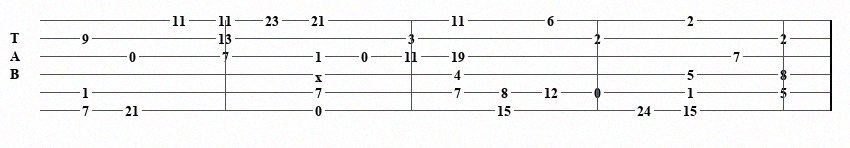0: (129, 49, 140, 63), (315, 103, 326, 117), (361, 49, 372, 63), (594, 85, 605, 99)
1: (82, 85, 93, 99), (315, 49, 326, 63), (687, 85, 698, 99)
11: (172, 13, 190, 27), (218, 13, 236, 27), (404, 49, 422, 63), (451, 13, 469, 27)
12: (544, 85, 562, 99)
13: (218, 31, 236, 45)
15: (497, 103, 515, 117), (683, 103, 701, 117)
19: (451, 49, 469, 63)
2: (594, 31, 605, 45), (687, 13, 698, 27), (780, 31, 791, 45)
21: (125, 103, 143, 117), (311, 13, 329, 27)
23: (265, 13, 283, 27)
24: (637, 103, 655, 117)
3: (408, 31, 419, 45)
4: (454, 67, 465, 81)
5: (687, 67, 698, 81), (780, 85, 791, 99)
6: (547, 13, 558, 27)
7: (82, 103, 93, 117), (222, 49, 233, 63), (315, 85, 326, 99), (454, 85, 465, 99), (733, 49, 744, 63)
8: (501, 85, 512, 99), (780, 67, 791, 81)
9: (82, 31, 93, 45)
x: (315, 69, 326, 80)
